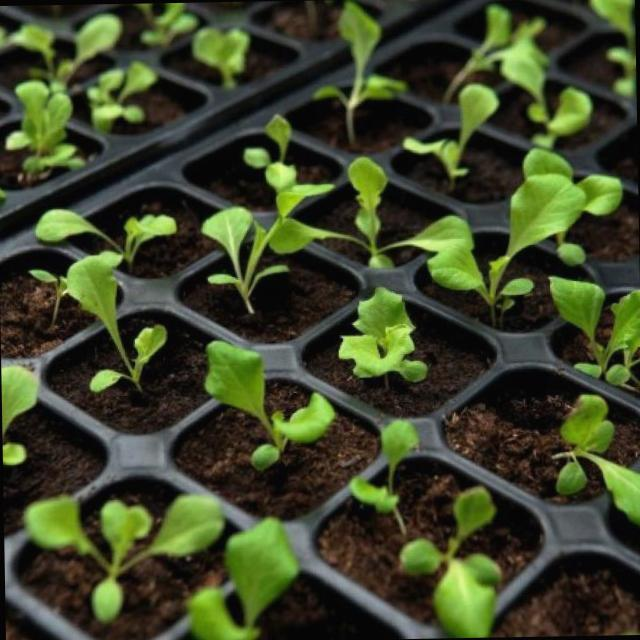Lettuce-Not-Ready-to-Harvest: (23, 493, 223, 622), (428, 175, 584, 325), (269, 157, 471, 267), (205, 340, 335, 470), (399, 486, 500, 638), (67, 252, 166, 391), (187, 517, 298, 640), (312, 1, 406, 144), (552, 394, 640, 525), (499, 36, 591, 148), (442, 4, 545, 101), (402, 83, 498, 187), (550, 276, 640, 385), (201, 207, 288, 313), (0, 14, 121, 90), (243, 115, 333, 217), (338, 288, 427, 381), (36, 209, 176, 265), (349, 420, 418, 533), (4, 80, 84, 175), (87, 61, 157, 132), (591, 0, 634, 97), (1, 365, 37, 465), (191, 28, 249, 88), (135, 2, 199, 46)
